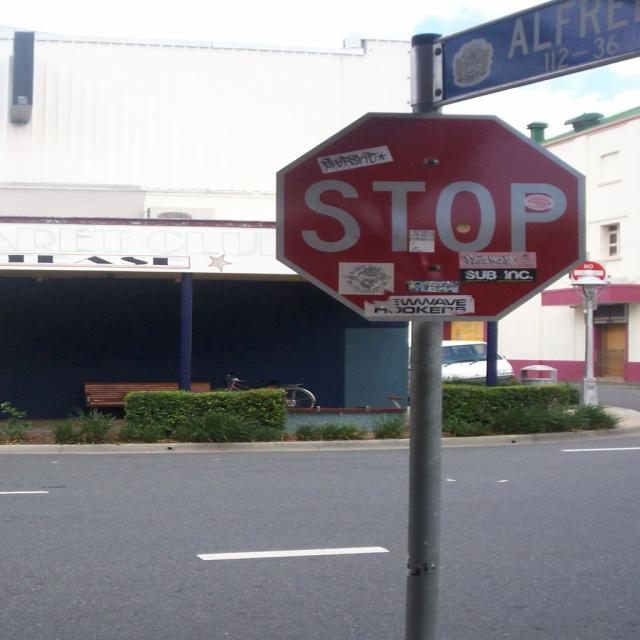Stop-sign: (274, 111, 586, 323)
